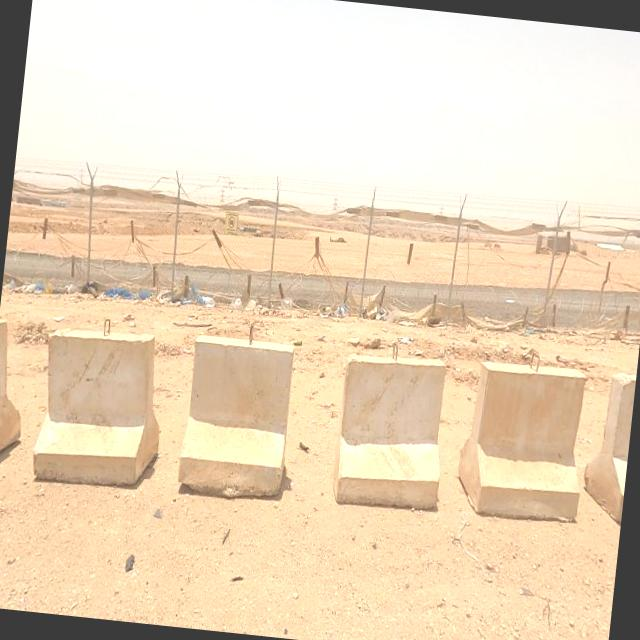debris: (152, 234, 240, 346), (0, 240, 70, 327), (113, 237, 174, 329), (301, 272, 366, 352), (205, 272, 283, 337), (35, 252, 100, 326), (66, 244, 124, 326), (341, 272, 405, 346), (91, 255, 149, 323), (383, 308, 436, 376), (258, 270, 316, 327), (148, 268, 184, 333), (508, 304, 545, 361), (309, 317, 335, 357), (283, 328, 314, 361)
